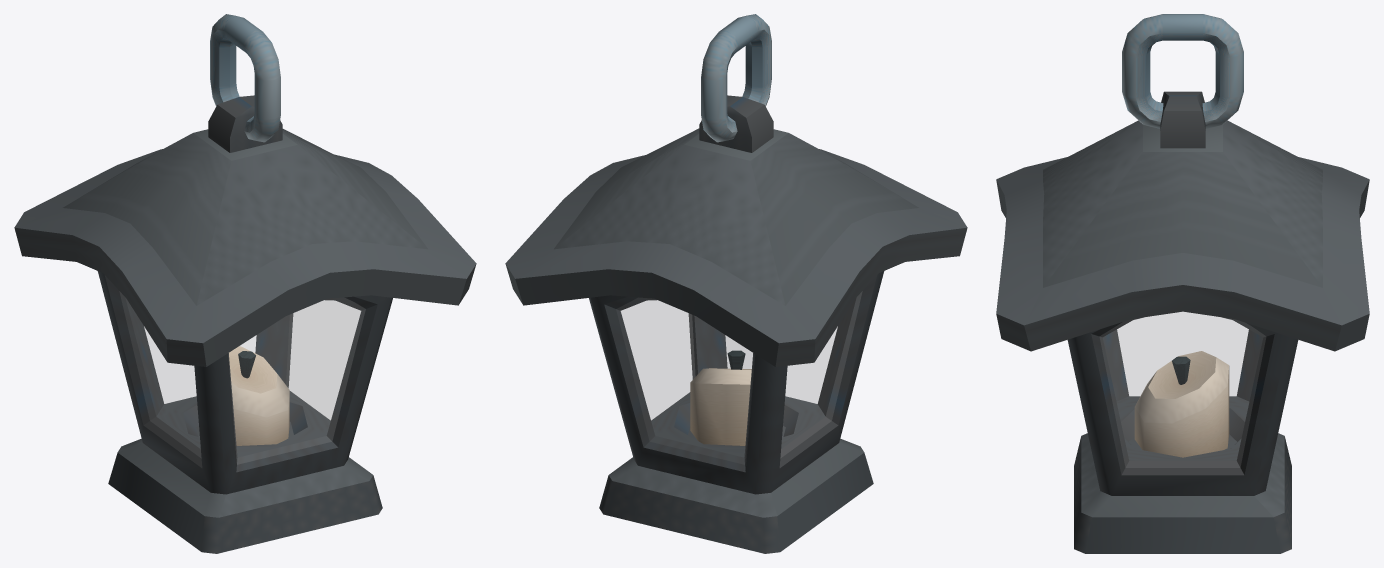
File: lantern.glb
The picture shows the model from 3 angles, left to right: view 1: azimuth 30°, elevation 25°; view 2: azimuth 150°, elevation 25°; view 3: azimuth 270°, elevation 25°; orthographic projection. The views are drawn at different scales.
Parts seen in each view (by area): view 1: lantern, lantern_handle; view 2: lantern, lantern_handle; view 3: lantern, lantern_handle.
Part boxes in pixels (bbox=[...]): lantern: bbox=[14, 95, 476, 553]; lantern_handle: bbox=[210, 14, 280, 142]; lantern: bbox=[505, 95, 967, 553]; lantern_handle: bbox=[701, 14, 771, 142]; lantern: bbox=[996, 91, 1369, 553]; lantern_handle: bbox=[1122, 14, 1243, 128].
Size of the model in its own units: 0.7528 by 1.11 by 0.7528.
Materials: 2 (1 with a texture image).
